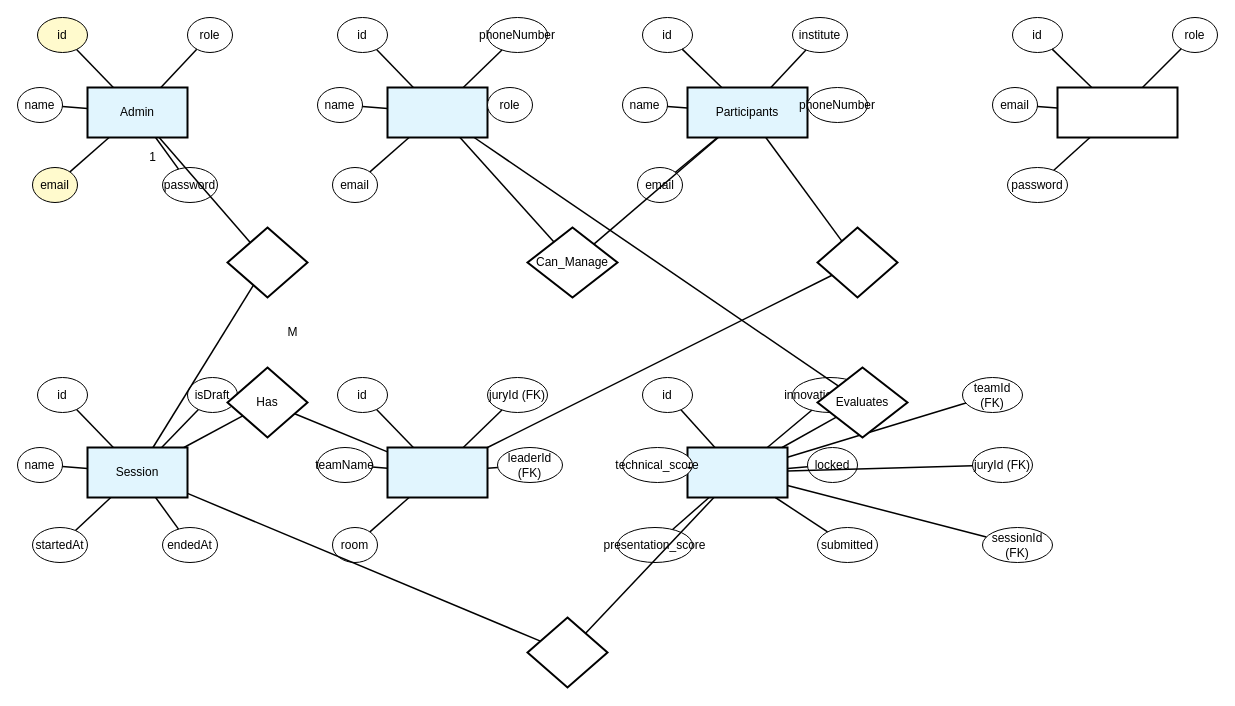
The diagram is 1235 pixels wide and 706 high, and some of its shapes have lost their labels. The shapes that lost their labels are listed below. From the top down, each one's centre as x and y in pixels, then its label:
point 437,112: Jury
point 1117,112: Credentials
point 267,262: Manages
point 857,262: Belongs
point 437,472: Teams
point 737,472: Marks
point 567,652: Receives
